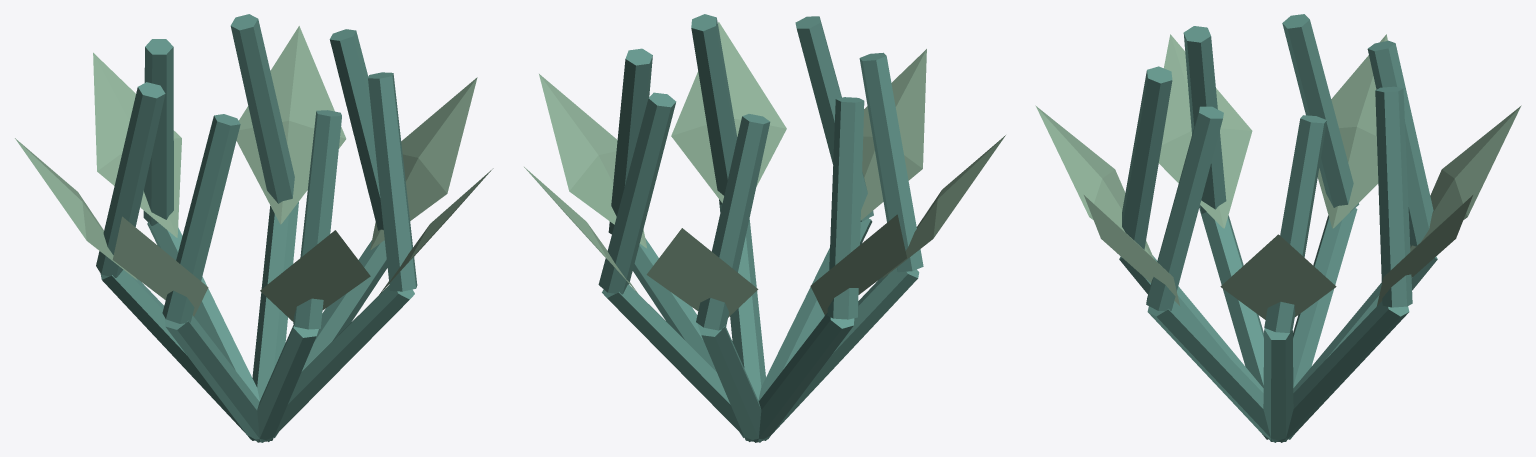
Rendered from map-exclusive-v3__tide_04.glb.
3 views of the same model, side by side, from view 1: azimuth 30°, elevation 25°; view 2: azimuth 150°, elevation 25°; view 3: azimuth 270°, elevation 25° (orthographic).
Parts seen in each view (by area): view 1: tide_04; view 2: tide_04; view 3: tide_04.
Part boxes in pixels (x1,y1,x2,y2): tide_04: (15, 14, 493, 442); tide_04: (524, 14, 1005, 442); tide_04: (1035, 14, 1521, 442).
Bounding box in the file's own units: 1.71 × 1.47 × 1.75.
